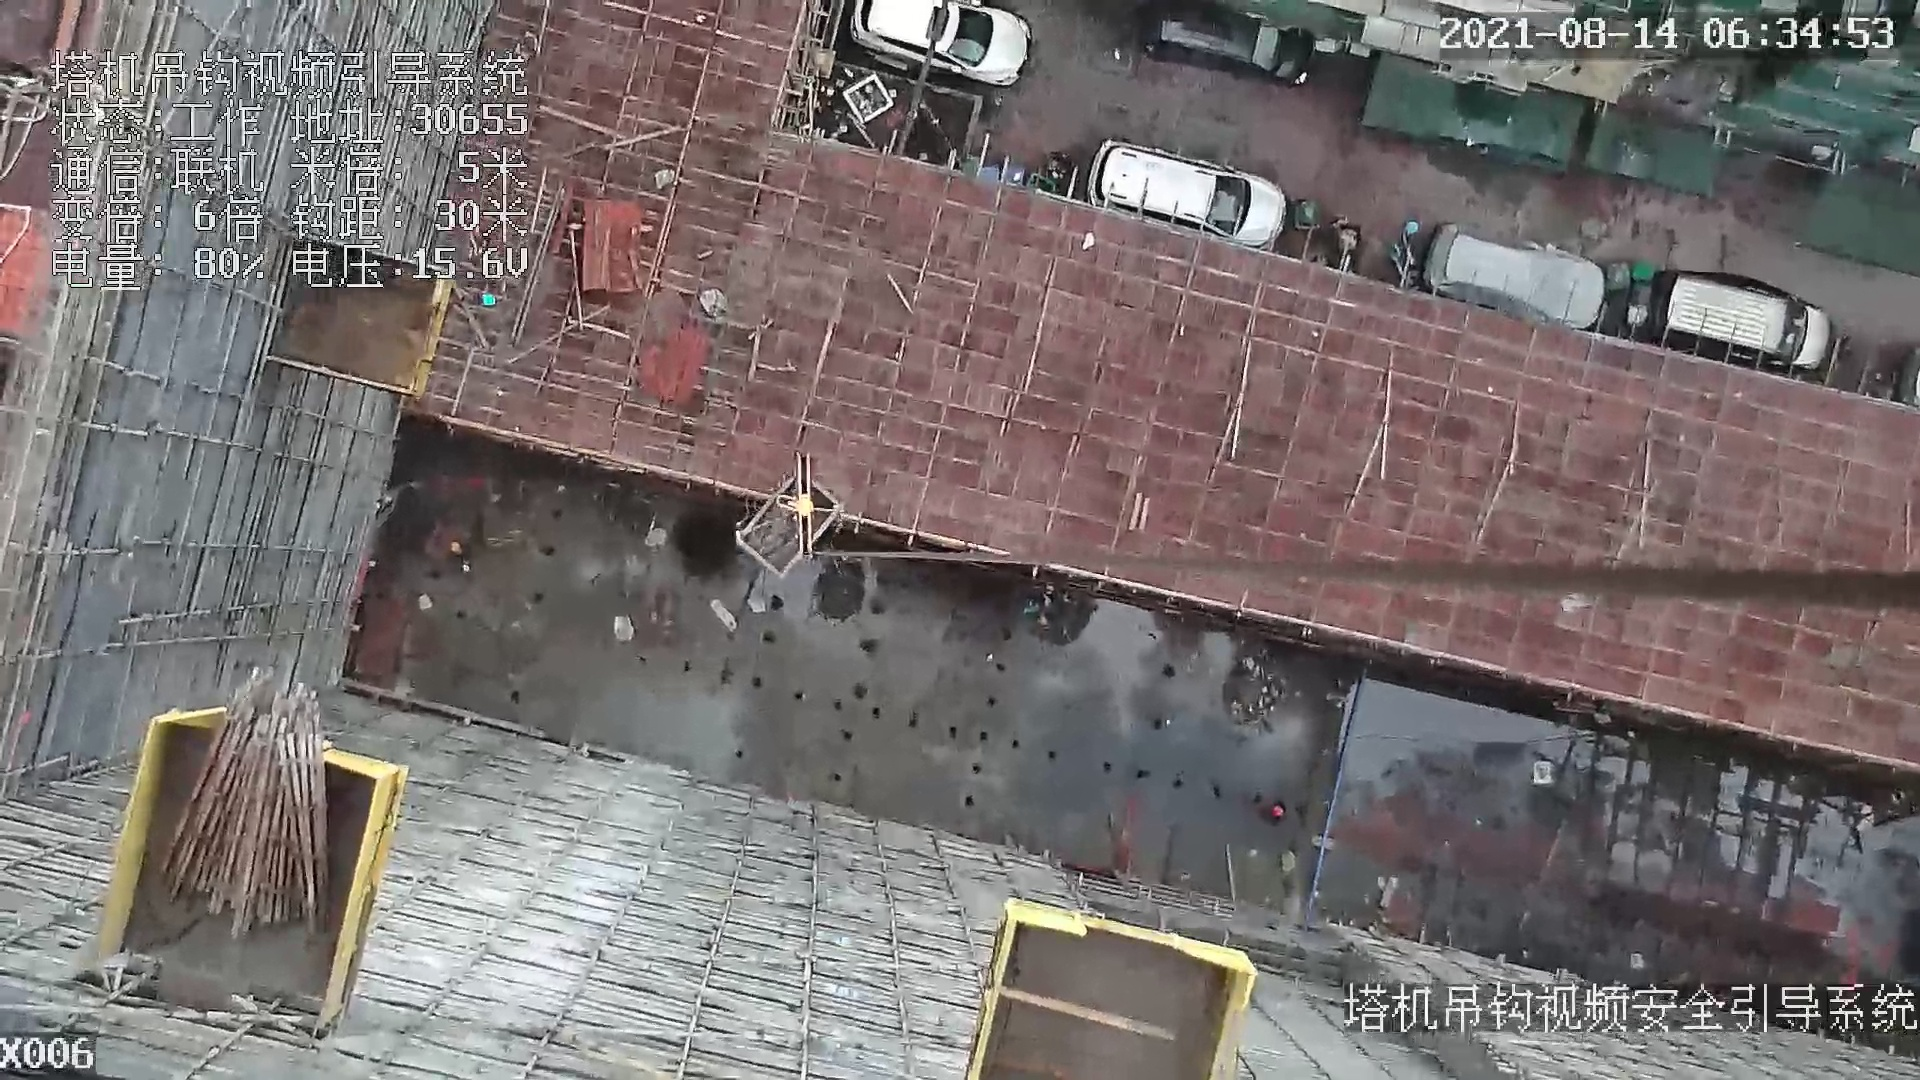hook: (777, 455, 814, 559)
scaffold: (170, 669, 342, 949)
